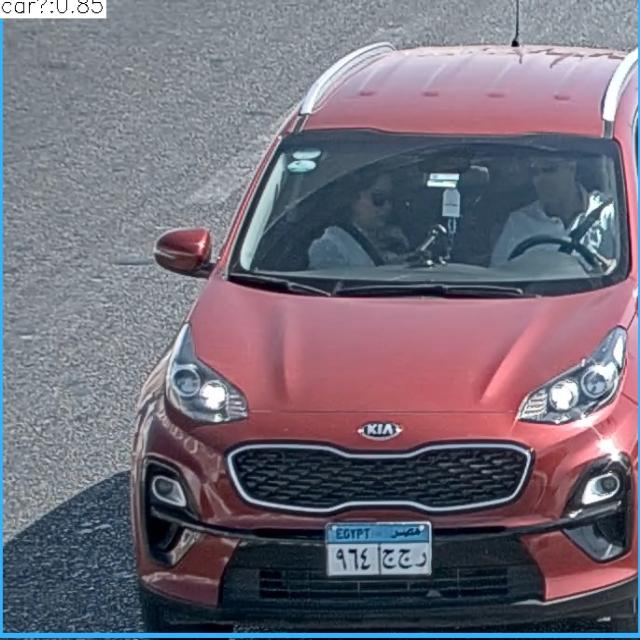windshield: (225, 132, 632, 286)
